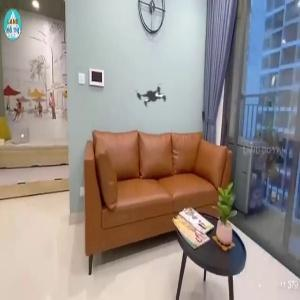drone: (124, 68, 182, 126)
